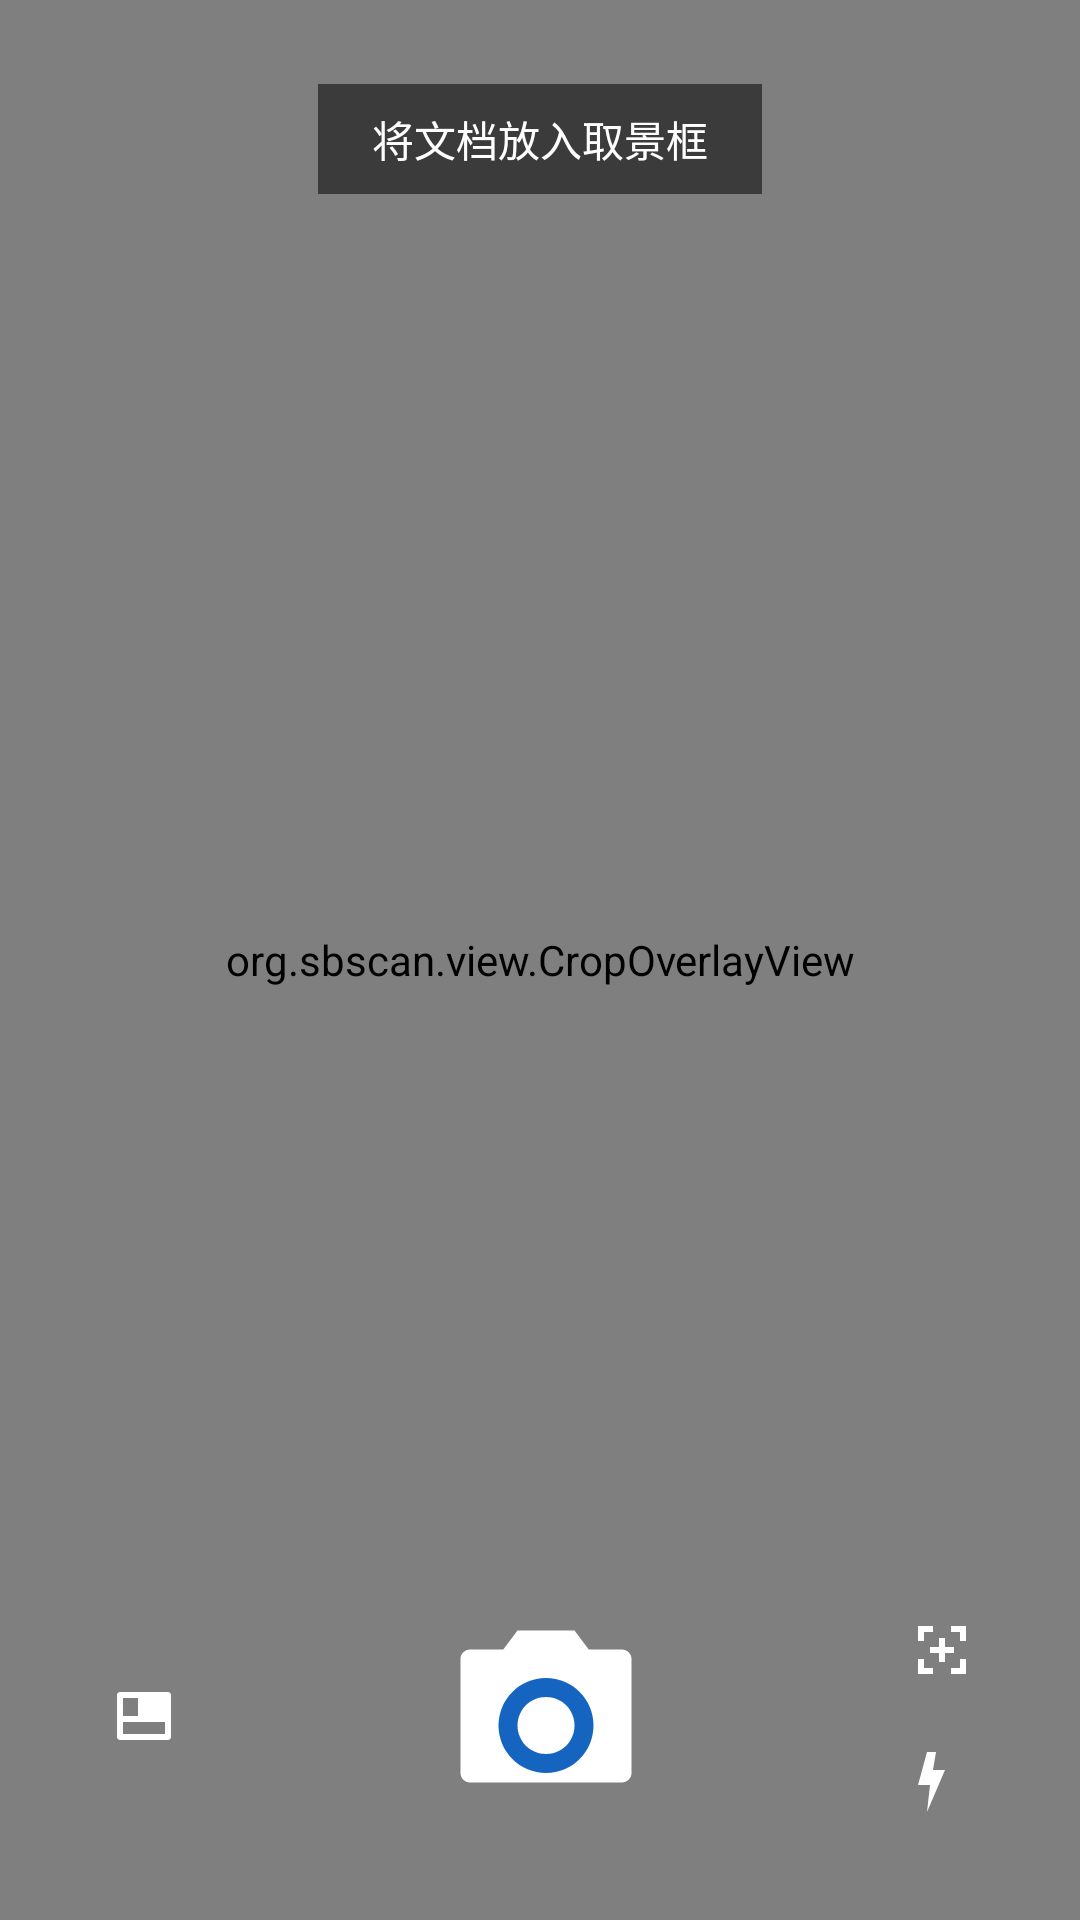

Named icons in this screenshot (1080px x 1920px) and their centers, [x,y]:
flash: [931,1781]
自动拍摄: [942,1650]
